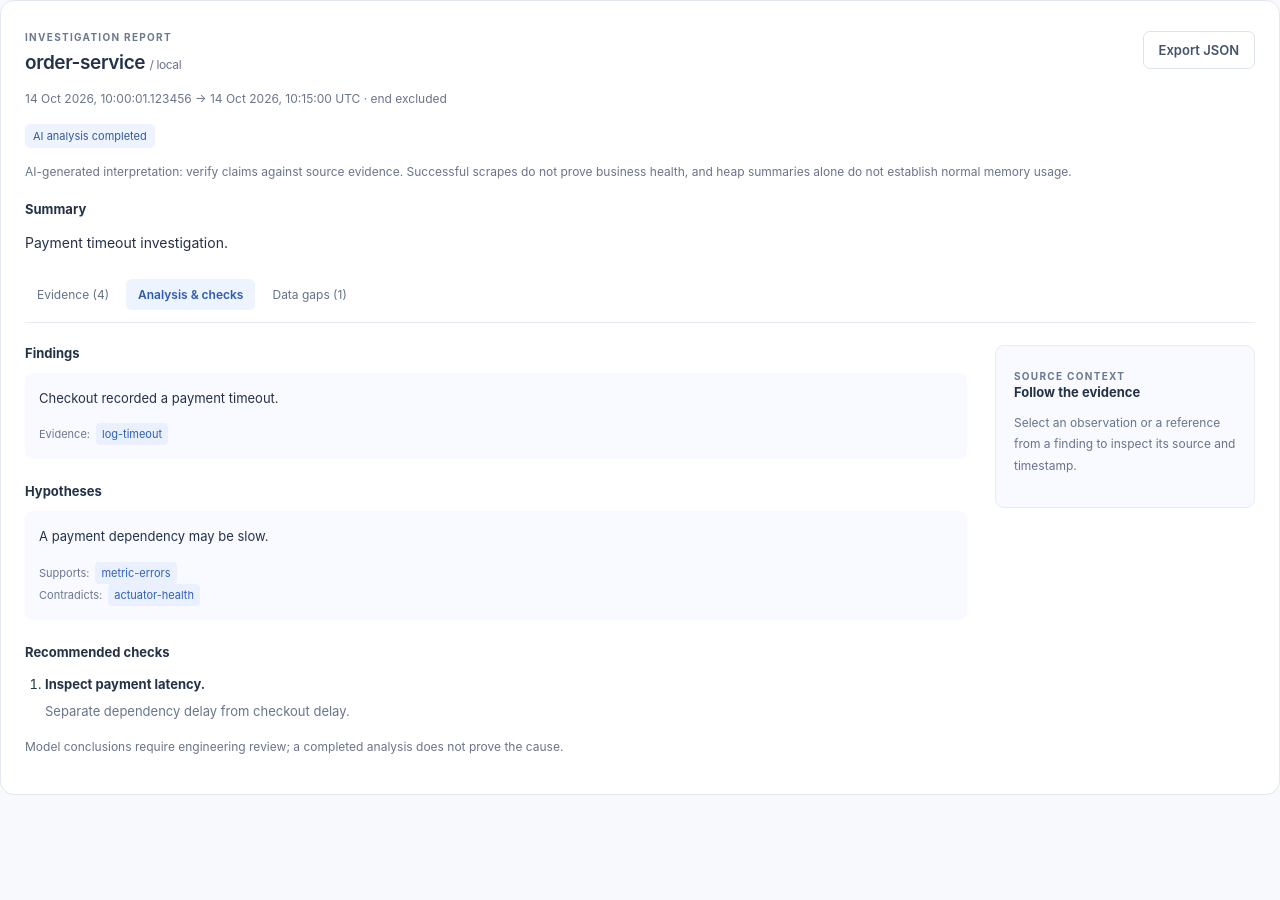
Test: investigation report › preserves source fractional seconds while converting offset timestamps to UTC
Click the button "Evidence (4)": click(73, 294) [25,279,121,310]
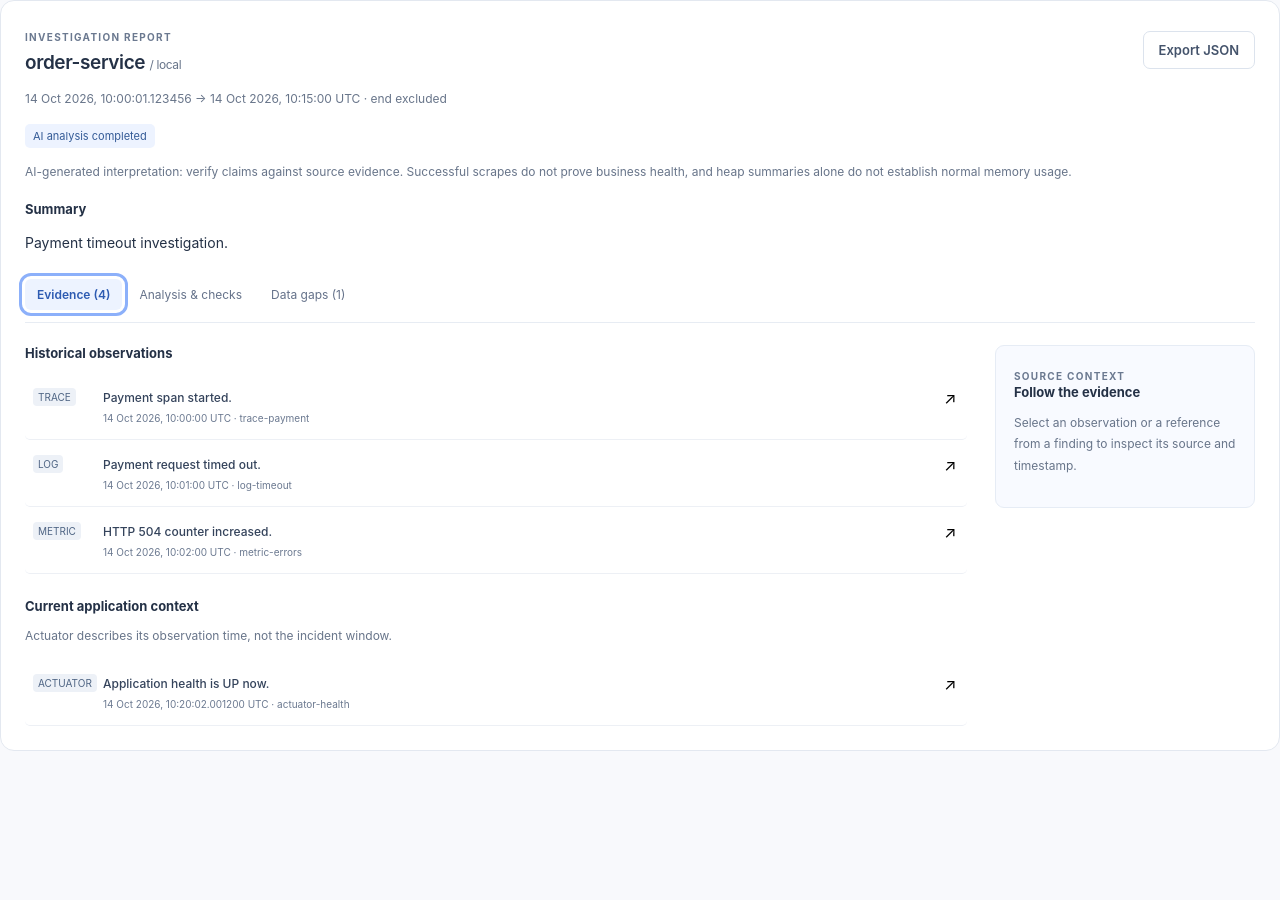
Expected: the text "14 Oct 2026, 10:00:01.123456 → 14 Oct 2026, 10:15:00 UTC" is shown, [25,91,447,106]
Now the button "Application health is UP now" shows "14 Oct 2026, 10:20:02.001200 UTC"
Click the button "Application health is UP now": click(65, 683) [25,659,967,726]
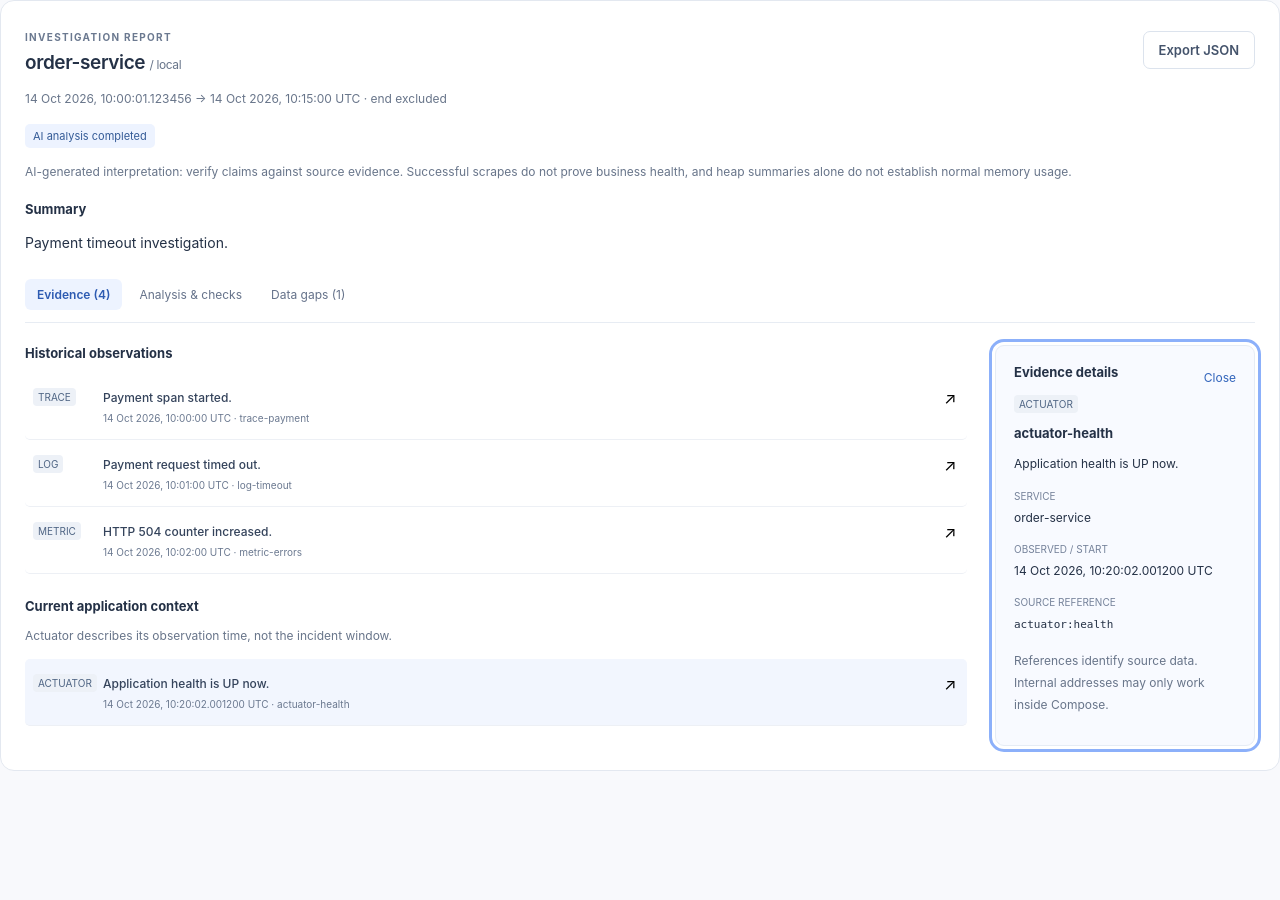
Now the text "14 Oct 2026, 10:20:02.001200 UTC" is shown, box [1014,560,1236,582]
